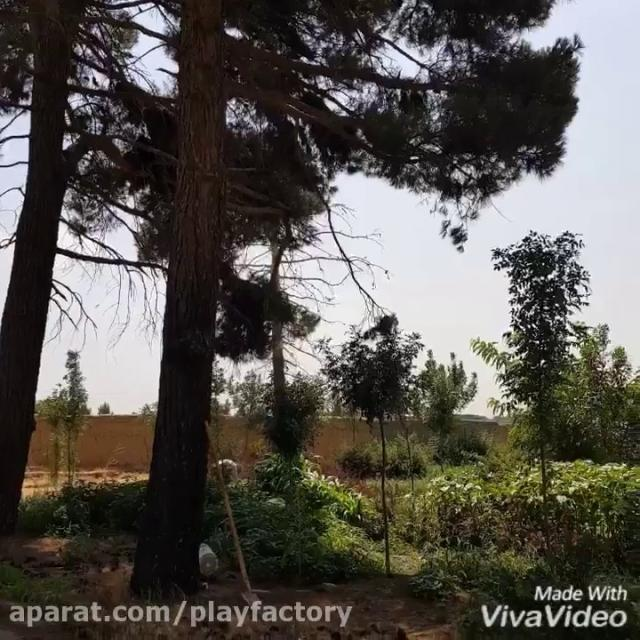drone: (321, 292, 336, 302)
